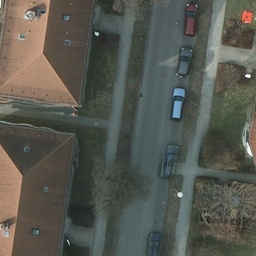car: (175, 45, 194, 79), (170, 87, 185, 122), (185, 2, 199, 36)
